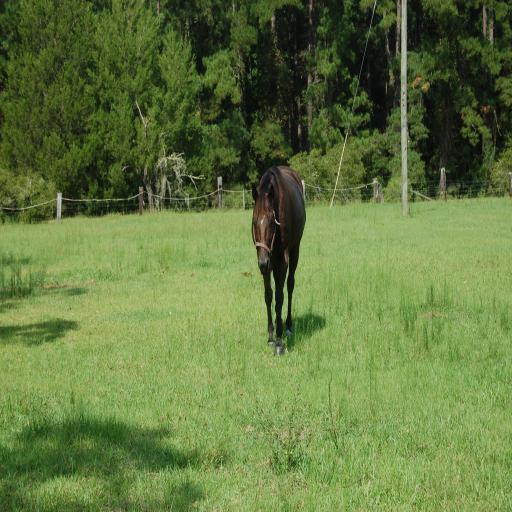horse: (252, 164, 307, 356)
